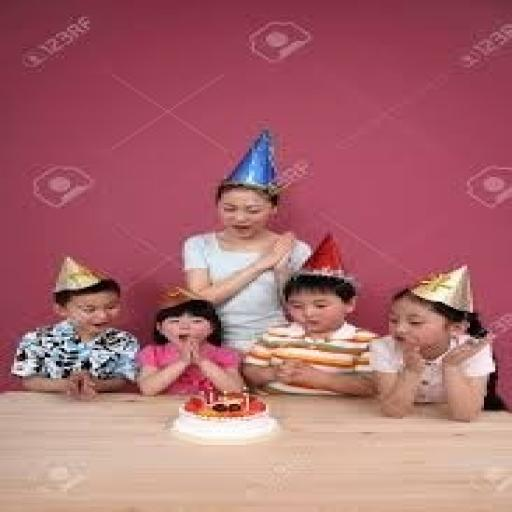clapping: (68, 59, 512, 453), (310, 148, 497, 512), (198, 206, 409, 479), (102, 192, 256, 483), (9, 269, 157, 454)
